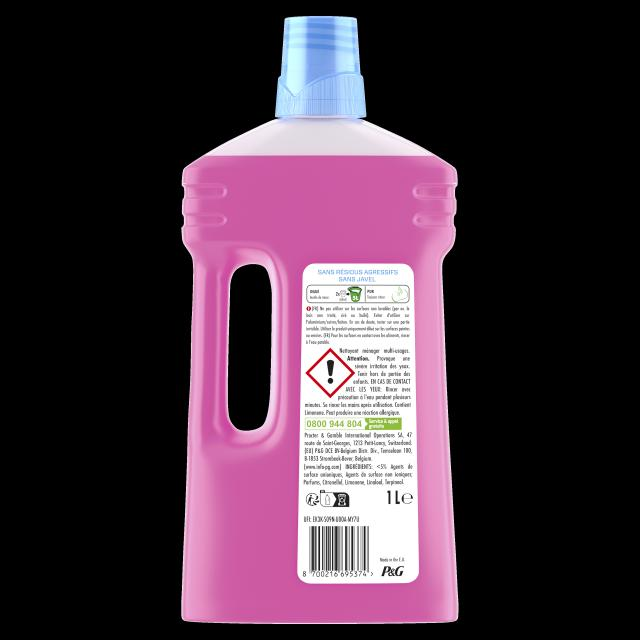GHS_Symbol_EXCLAMATION_MARK: (305, 348, 356, 398)
